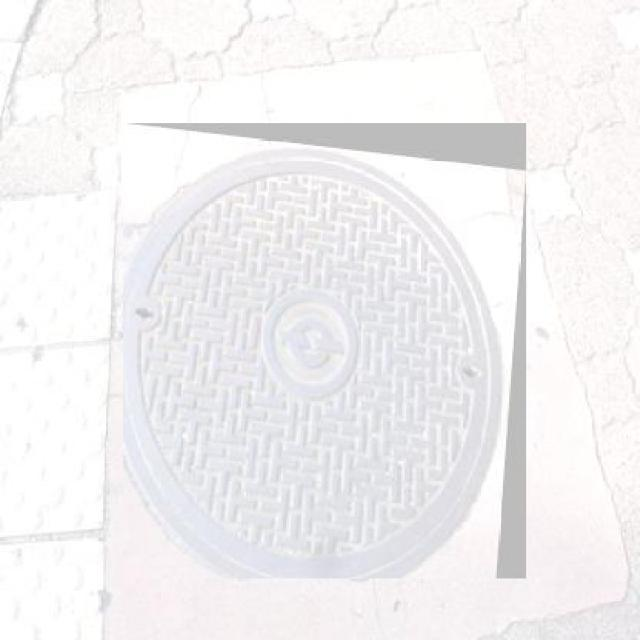Manhole: (123, 122, 526, 577)
